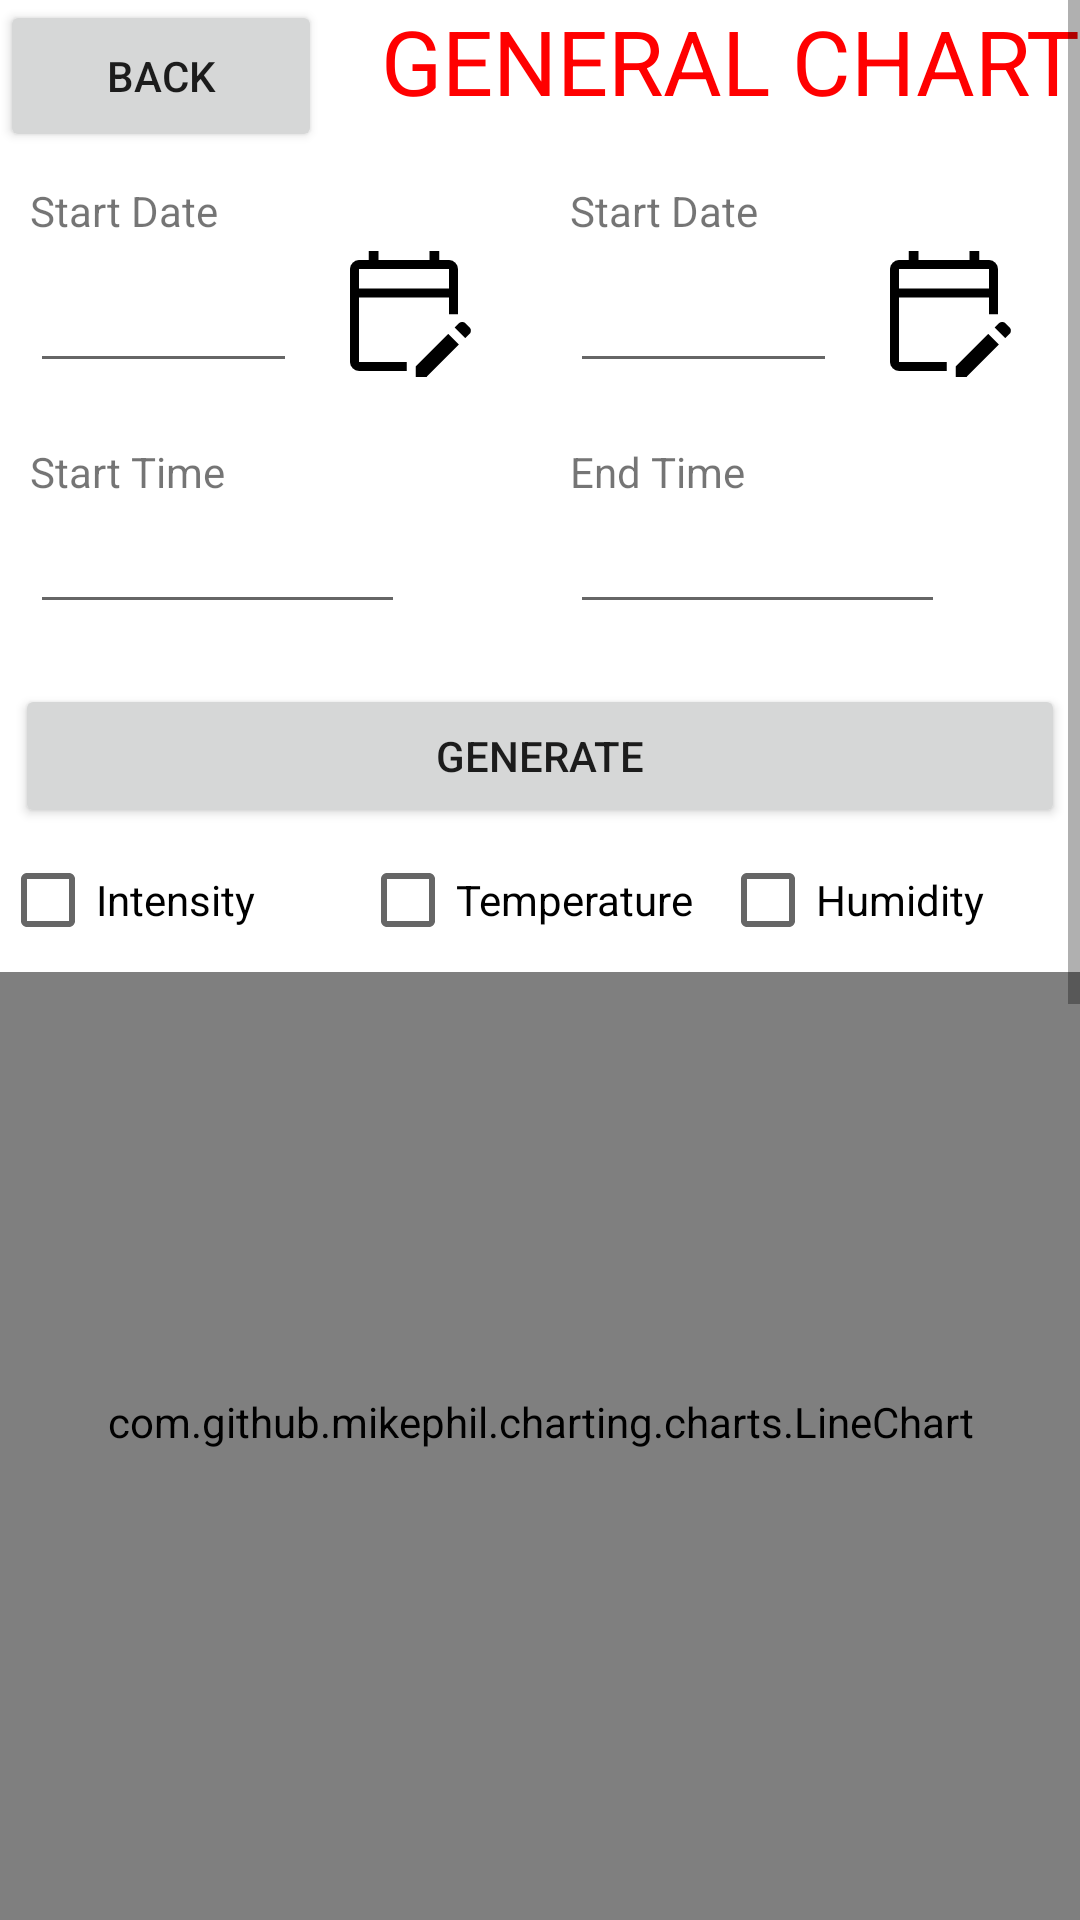

Screen size 1080 x 1920. Icon name, then its center in pixels as [x,y]:
End Date Icon: [950,314]
